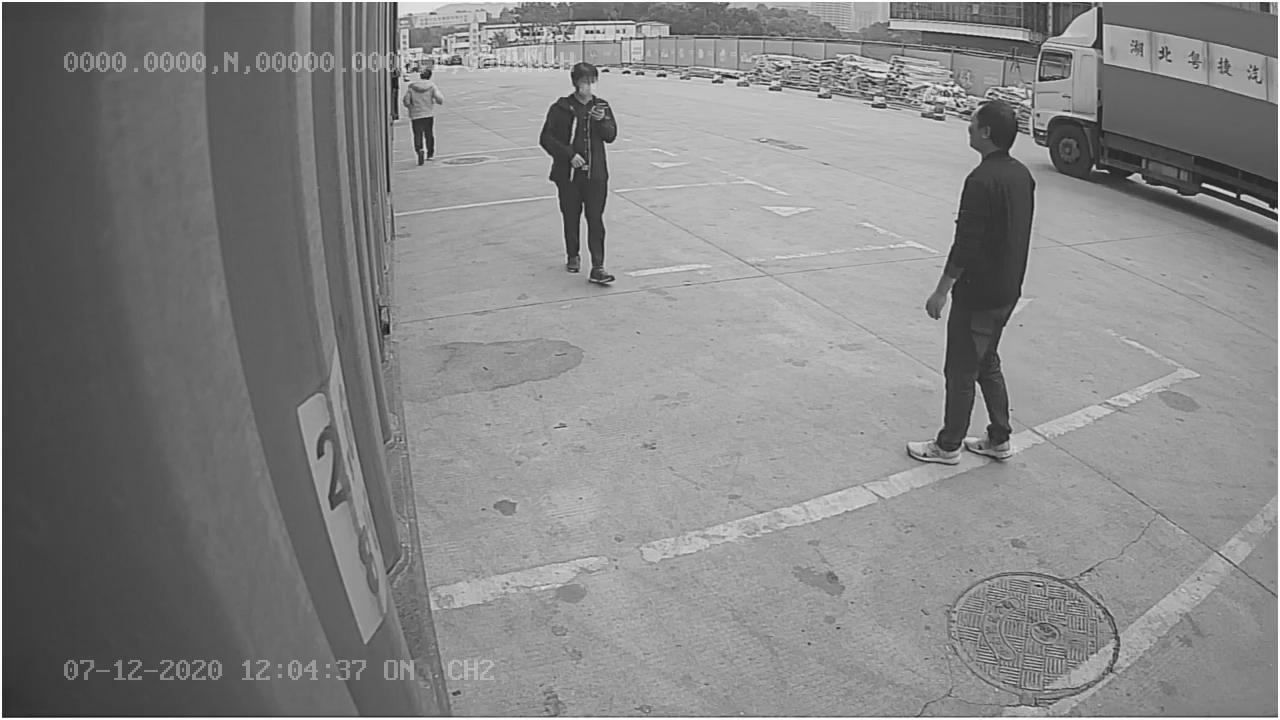person: (905, 92, 1034, 467), (538, 59, 625, 289)
